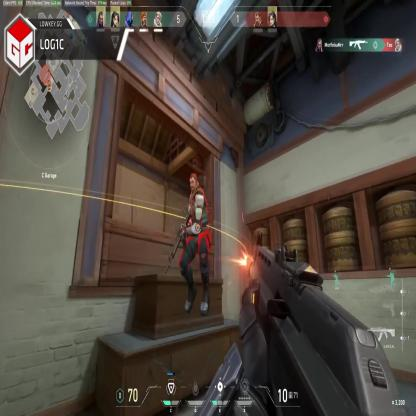enemy: (178, 173, 212, 313)
enemy_head: (189, 173, 199, 193)
